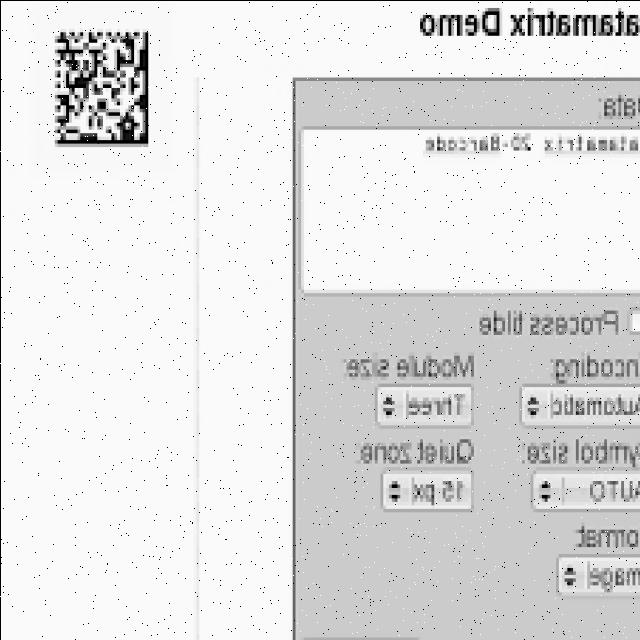datamatrix: (45, 21, 156, 156)
